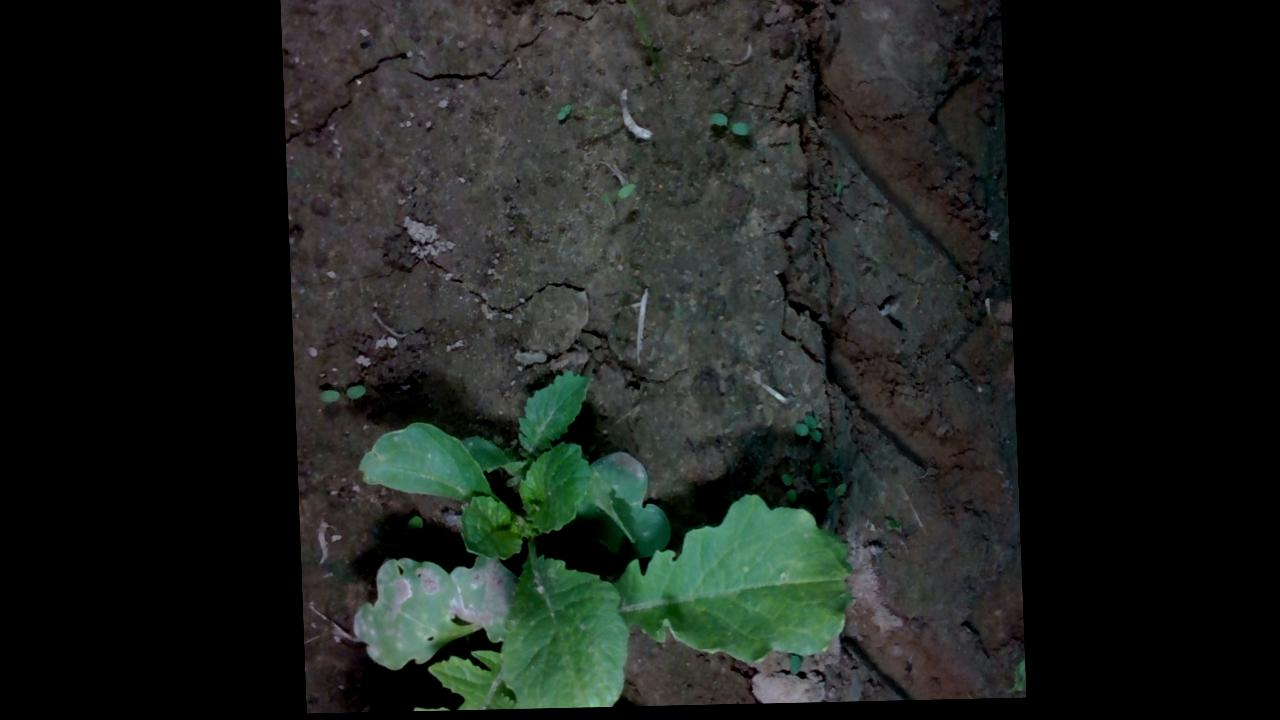weed: (704, 115, 750, 142), (311, 385, 363, 406), (774, 476, 793, 510), (552, 106, 572, 124)
